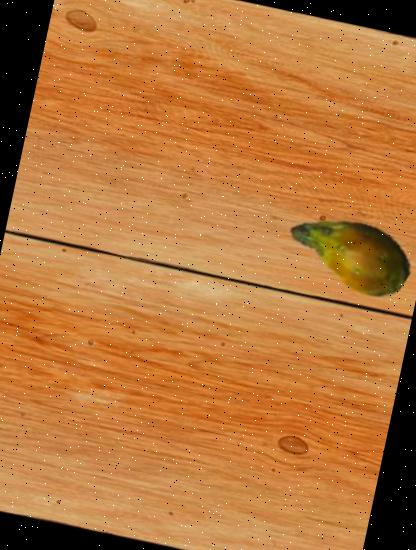Cactus: (277, 175, 416, 323)
